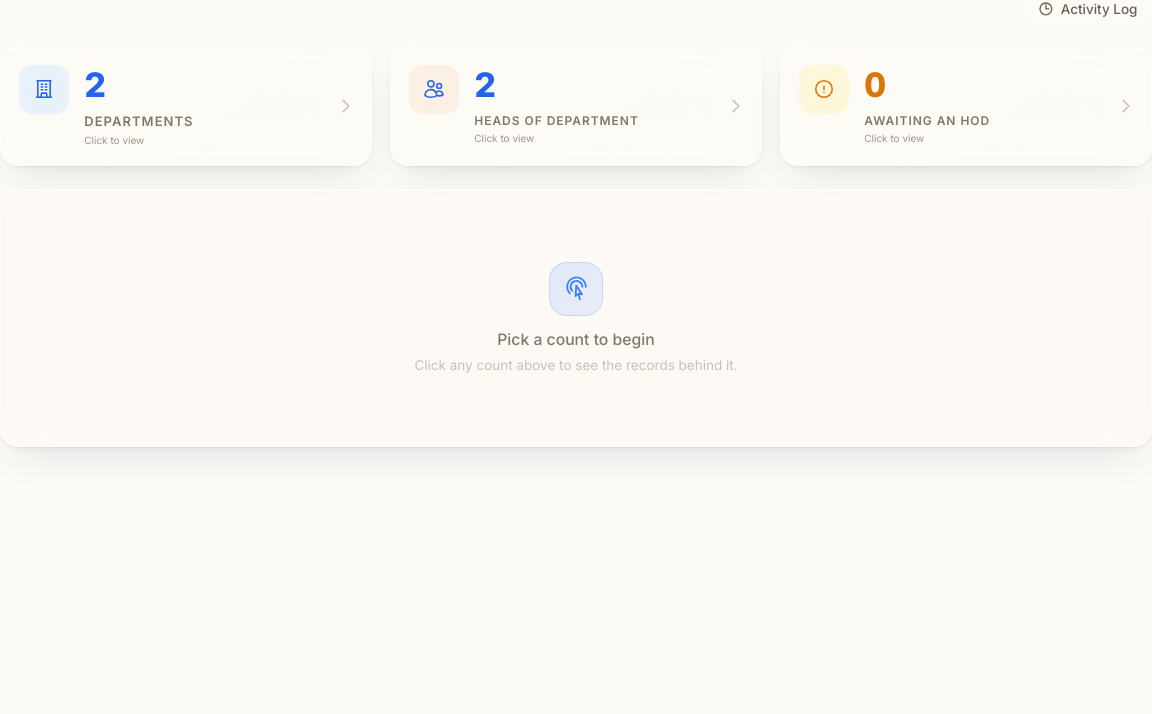
it: AdminPanel â€” department list › shows the HODs belonging to each department
Click the button "2 Departments Click to view": click(44, 89) [0, 46, 372, 166]
(page scrolled)
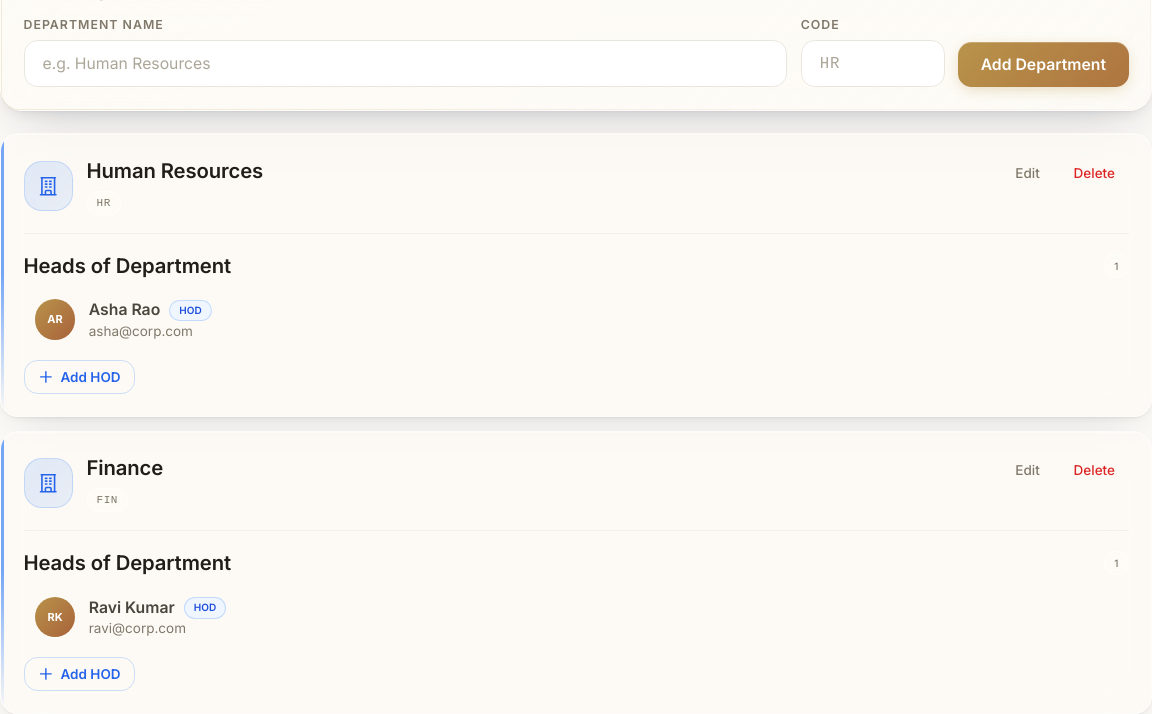
Now the text "Asha Rao" is shown, box [89, 299, 160, 322]
Now the text "asha@corp.com" is shown, box [89, 323, 193, 339]
Now the text "Ravi Kumar" is shown, box [89, 596, 175, 619]
